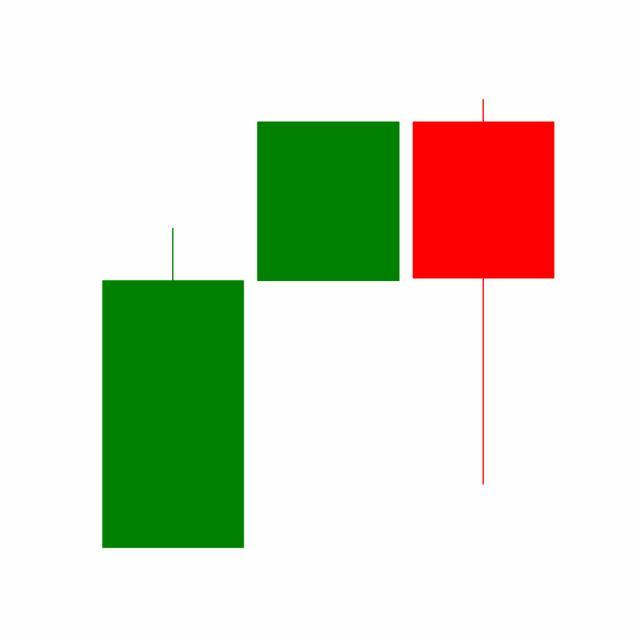Hanging Man: (406, 96, 562, 490)
